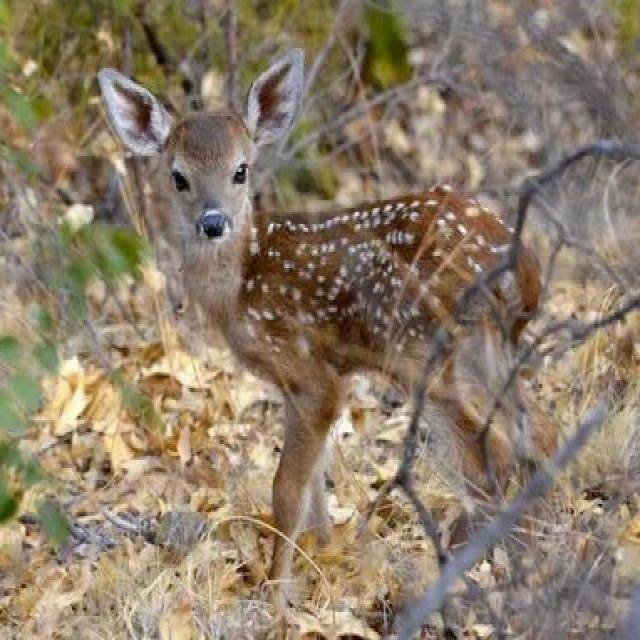deer: (106, 72, 507, 456)
